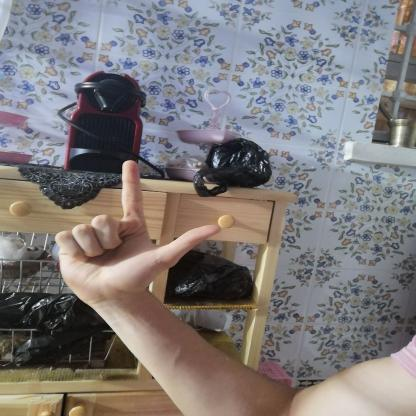LAAM: (41, 150, 234, 314)
